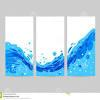paper: (5, 16, 95, 76)
